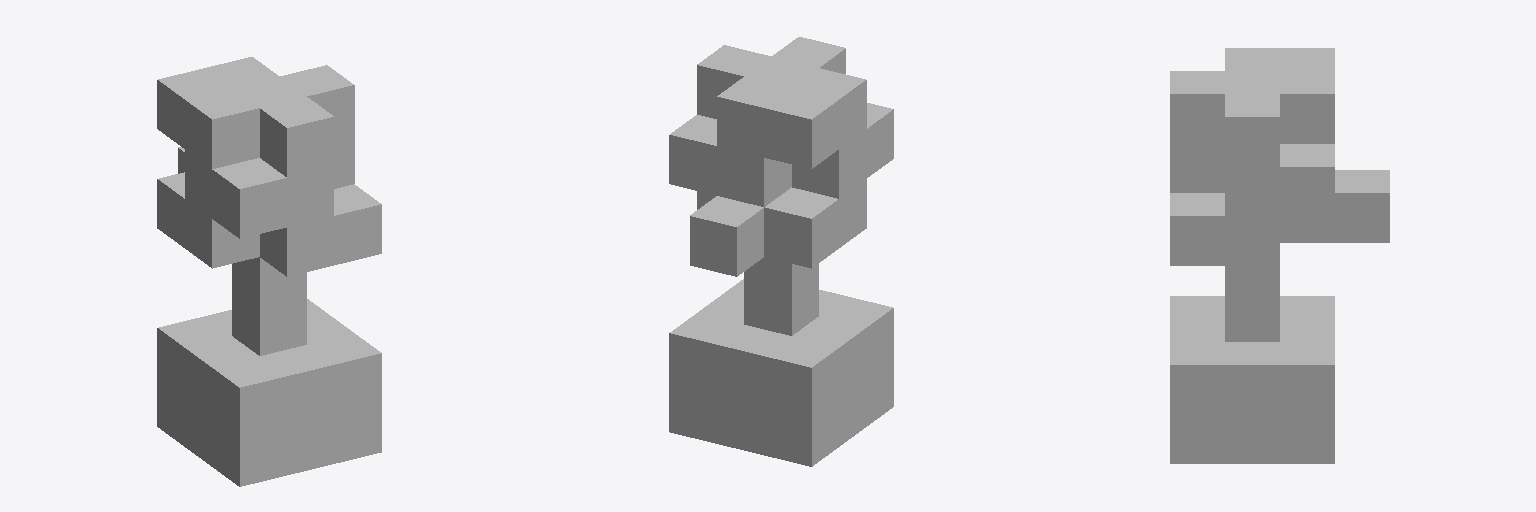
Rendered from tree.obj.
The picture shows the model from 3 angles: view 1: azimuth 30°, elevation 25°; view 2: azimuth 150°, elevation 25°; view 3: azimuth 270°, elevation 25°; orthographic projection.
Visible parts, largest first — view 1: object 1; view 2: object 1; view 3: object 1.
Boxes of the visible parts, <box> form: object 1: <box>157,57,381,486</box>; object 1: <box>669,37,893,466</box>; object 1: <box>1170,48,1389,463</box>.
Size of the model in its own units: 0.3 by 0.7 by 0.4.